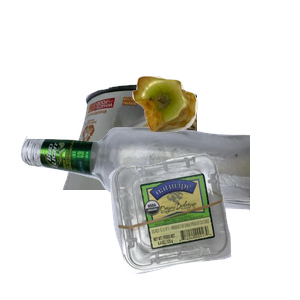glass: (18, 124, 258, 300)
metal: (60, 82, 300, 262)
plastic: (106, 151, 300, 300)
trash: (130, 74, 300, 199)
